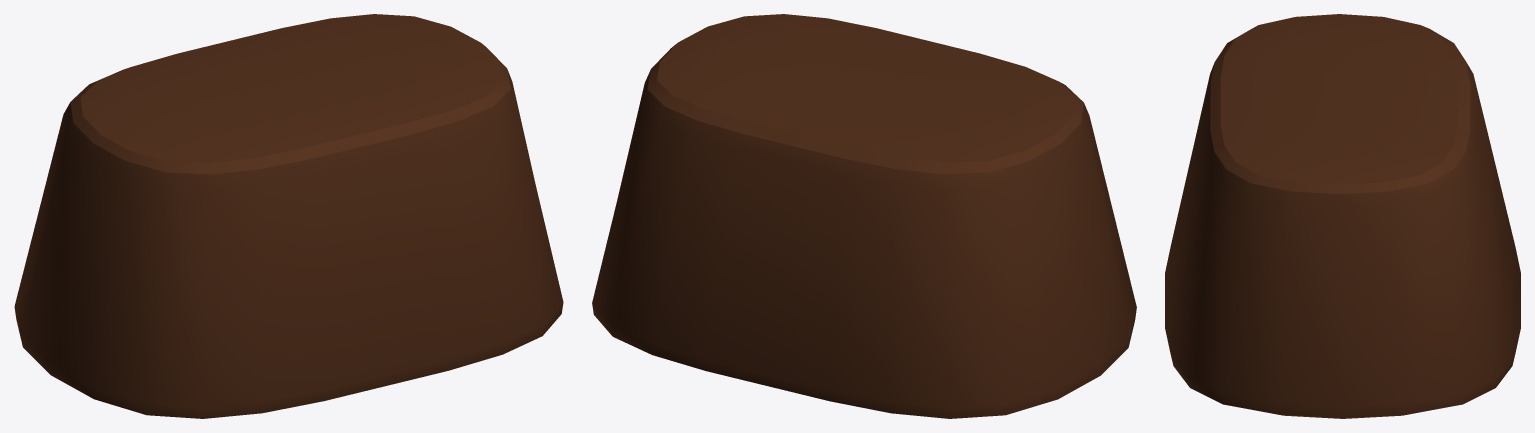
Rendered from RockPlatforms_Large.obj.
3 renders of one model, left to right at view 1: azimuth 30°, elevation 25°; view 2: azimuth 150°, elevation 25°; view 3: azimuth 270°, elevation 25°, orthographic. The views are drawn at different scales.
Visible parts, largest first — view 1: RockPlatforms_Large_Cube.381; view 2: RockPlatforms_Large_Cube.381; view 3: RockPlatforms_Large_Cube.381.
Part boxes in pixels (left/top/right/bottom): RockPlatforms_Large_Cube.381: left=14, top=14, right=563, bottom=418; RockPlatforms_Large_Cube.381: left=592, top=14, right=1136, bottom=418; RockPlatforms_Large_Cube.381: left=1165, top=14, right=1520, bottom=418.
Bounding box in the file's own units: 7.38 × 3.63 × 5.16.
